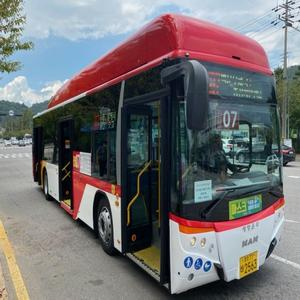07bus: (27, 36, 295, 284)
backdoor: (53, 104, 81, 216)
frontdoor: (120, 85, 178, 292)
